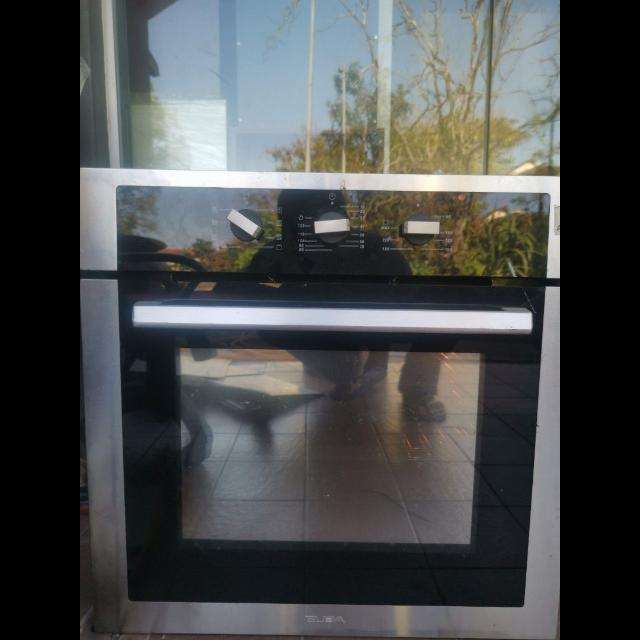Oven: (80, 168, 560, 640)
